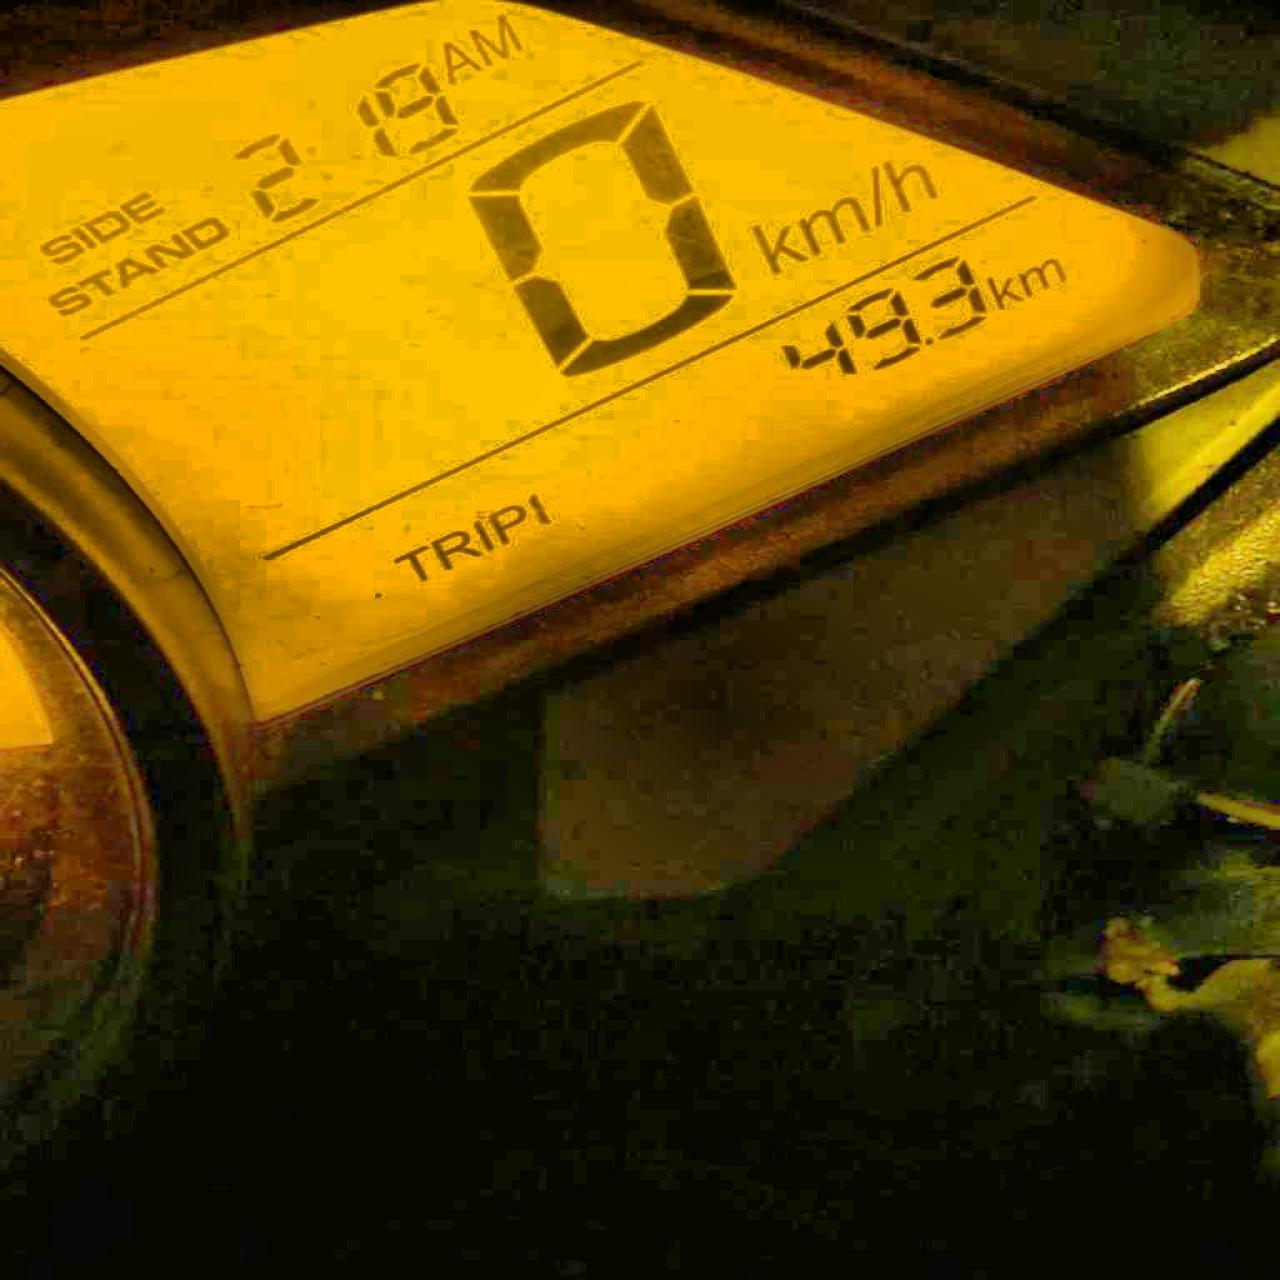0: (454, 90, 742, 381)
1: (342, 95, 400, 161), (525, 489, 557, 527)
2: (231, 127, 321, 223)
3: (913, 251, 988, 341)
4: (774, 318, 853, 384)
9: (372, 60, 461, 154), (842, 285, 921, 370)
X: (802, 193, 869, 252), (880, 156, 938, 215), (747, 216, 803, 273), (467, 14, 525, 68), (1019, 254, 1067, 298), (434, 36, 478, 82), (429, 529, 474, 571), (143, 232, 192, 268), (388, 542, 430, 584), (980, 270, 1022, 311), (182, 216, 231, 250), (489, 502, 525, 547), (82, 207, 128, 244), (120, 186, 159, 226), (36, 232, 80, 267), (865, 163, 888, 227), (46, 285, 91, 318), (111, 252, 154, 287), (80, 268, 114, 299), (469, 517, 493, 558), (68, 224, 100, 251)
odometer: (0, 0, 1198, 751)
